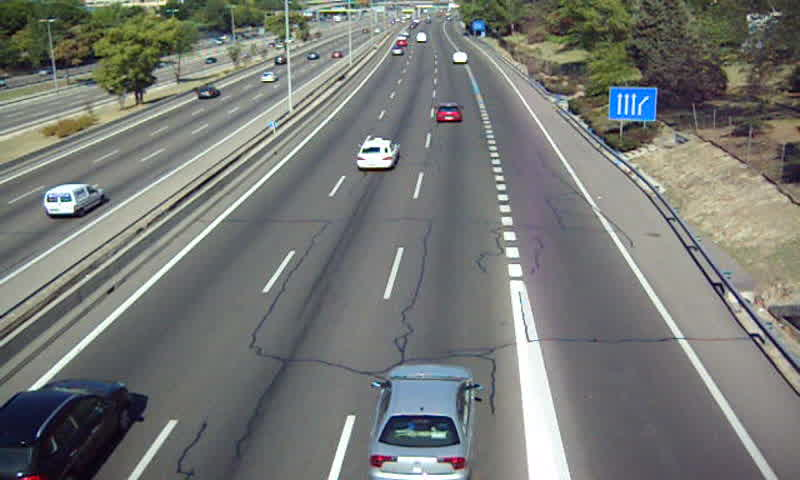car: (1, 378, 126, 480), (372, 365, 473, 480), (356, 137, 400, 169), (435, 104, 462, 124)
van: (452, 51, 468, 66)
